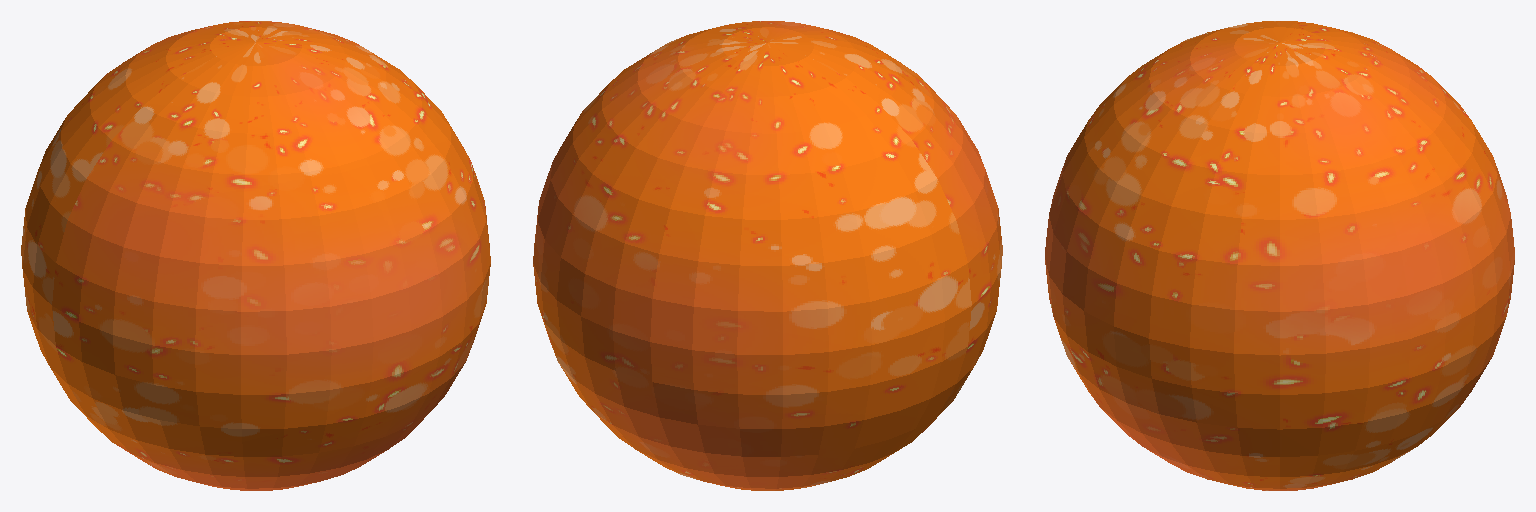
The picture shows the model from 3 angles: view 1: azimuth 30°, elevation 25°; view 2: azimuth 150°, elevation 25°; view 3: azimuth 270°, elevation 25°; orthographic projection.
Visible parts, largest first — view 1: specialBullet; view 2: specialBullet; view 3: specialBullet.
Boxes of the visible parts, x1,y1,x2,y2 form: specialBullet: [21, 21, 490, 490]; specialBullet: [533, 21, 1002, 490]; specialBullet: [1045, 21, 1514, 490].
Size of the model in its own units: 2 by 2 by 2.
1 materials, 1 textured.